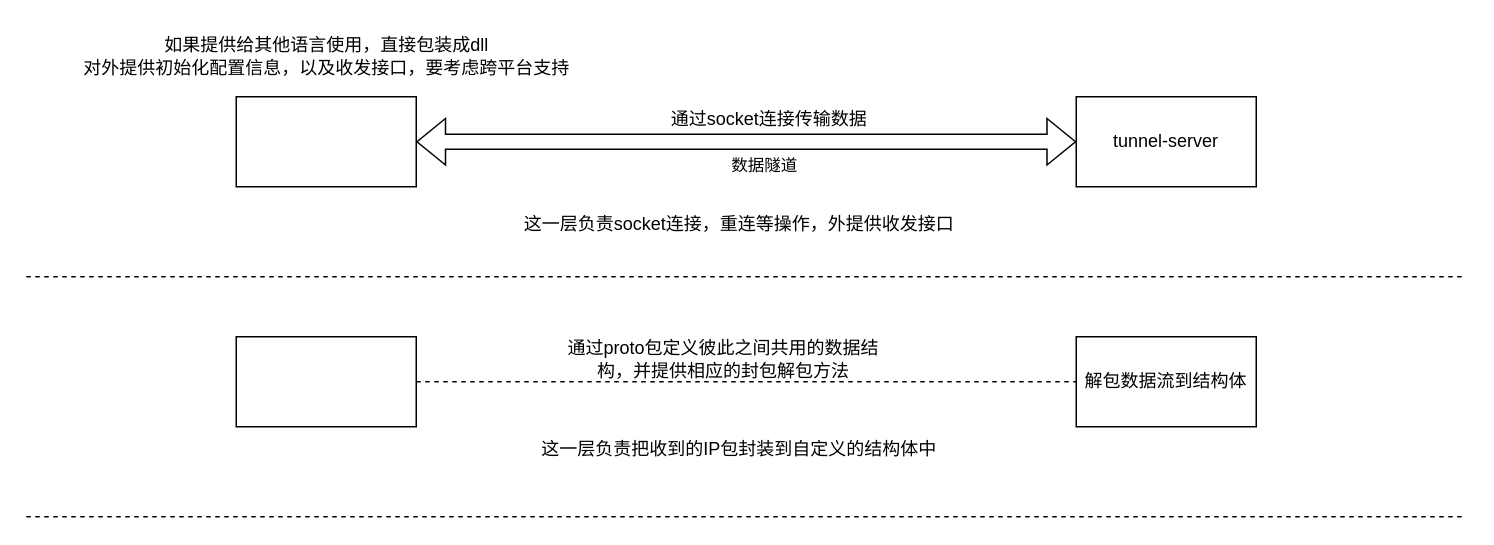
The diagram is 1494 pixels wide and 545 high, and some of its shapes have lost their labels. The shapes that lost their labels are listed below. From the top down, each one's centre as x and y in pixels, then its label:
At [325,141]: "tunnel-client".
At [325,381]: "结构体转网络字节流".
